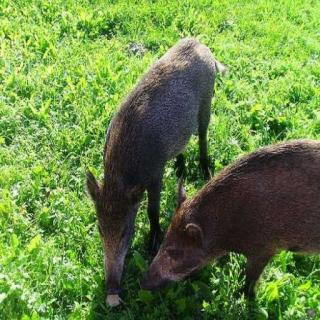Pig: (56, 16, 236, 273), (144, 129, 320, 297)
